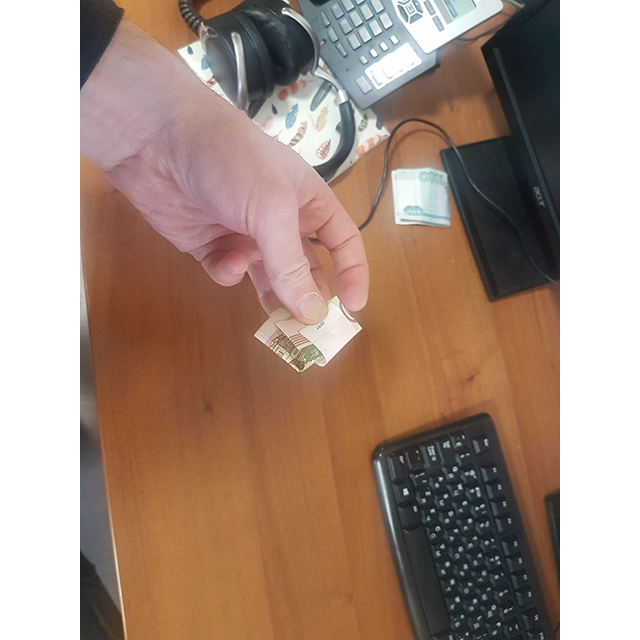banknotes: (256, 295, 365, 371), (392, 169, 454, 226)
